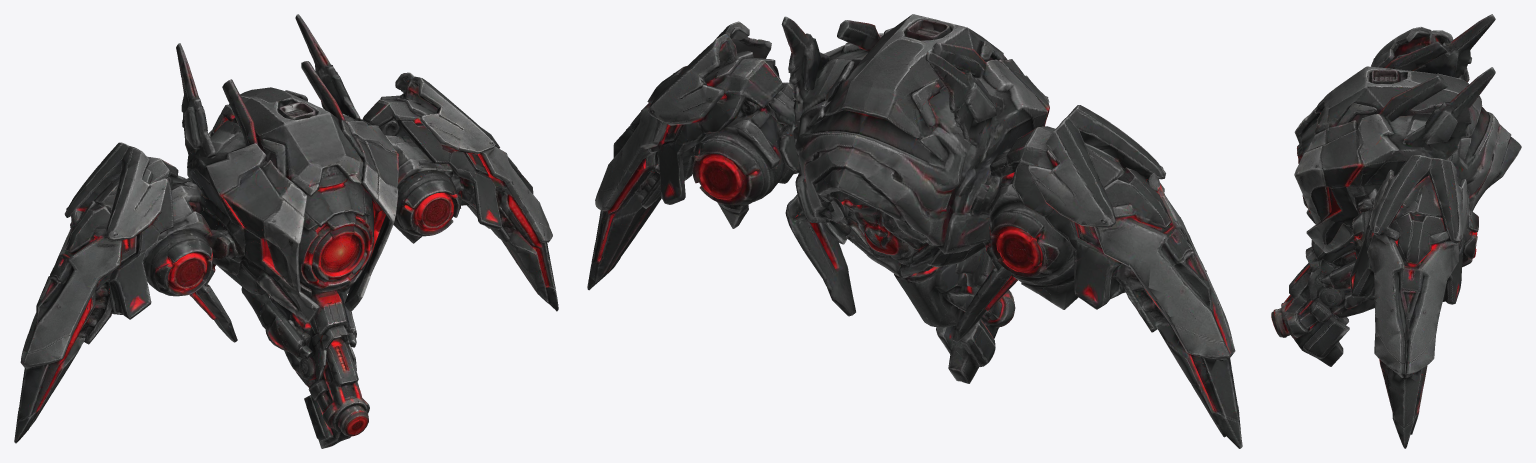
The model's file is Hunter2.glb.
3 renders of one model, left to right at view 1: azimuth 30°, elevation 25°; view 2: azimuth 150°, elevation 25°; view 3: azimuth 270°, elevation 25°, orthographic. The views are drawn at different scales.
Parts seen in each view (by area): view 1: Mesh_0; view 2: Mesh_0; view 3: Mesh_0.
Part boxes in pixels (<box>): Mesh_0: <box>14,14,558,448</box>; Mesh_0: <box>587,14,1242,448</box>; Mesh_0: <box>1271,14,1521,448</box>.
Size of the model in its own units: 1.9 by 1.18 by 0.8292.
Materials: 1 (1 with a texture image).
